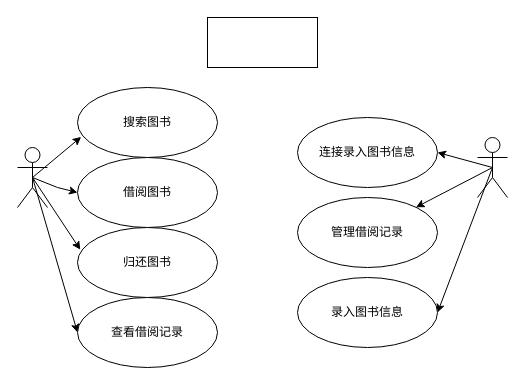
This 528x385 diagram has some shape labels left out. The centre of each missing label's shape, as x and y in pixels:
图书角系统: the point at 262,42
用户: the point at 32,177
管理员: the point at 492,167
